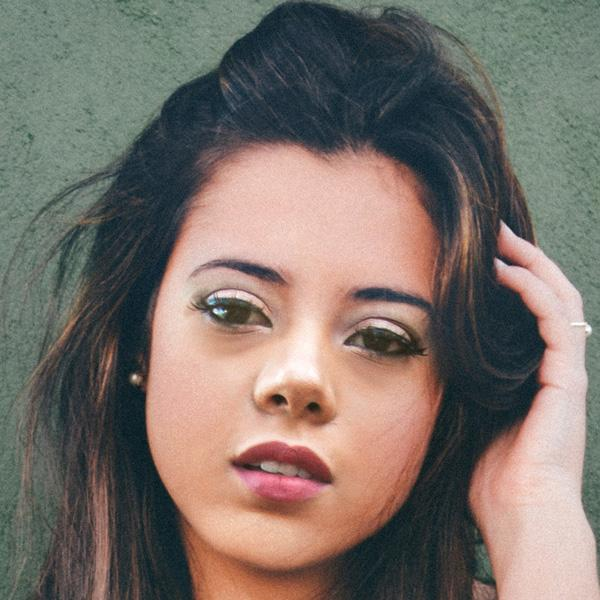Eyes: (329, 309, 429, 369), (189, 281, 280, 341)
